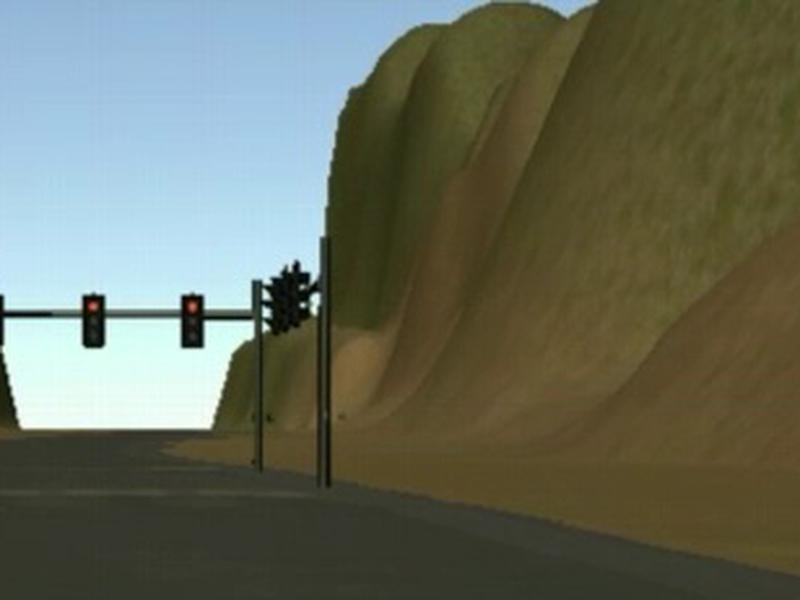Red: (81, 294, 106, 347), (180, 296, 203, 348)
